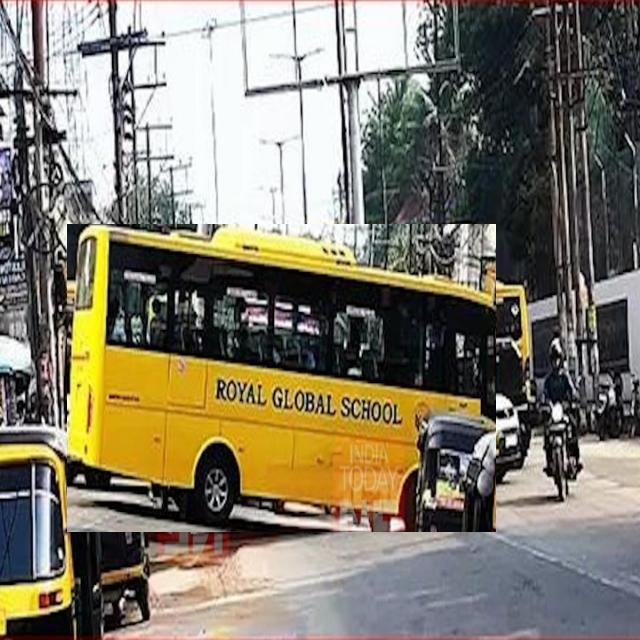autorickshaw: (0, 424, 104, 638)
bus: (67, 225, 495, 532)
